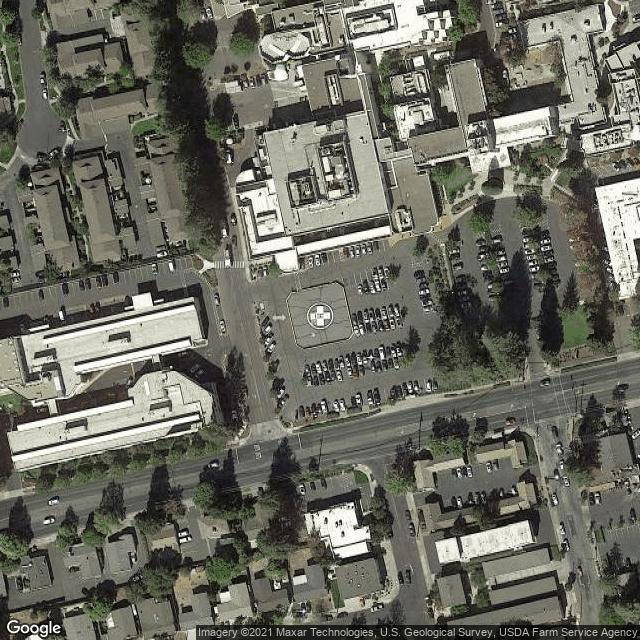Helipad: (304, 300, 334, 330)
